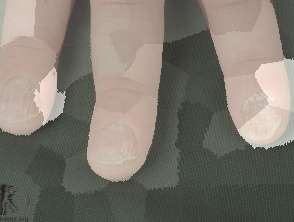Nail_psoriasis: (226, 76, 294, 153), (88, 112, 149, 172), (0, 68, 53, 129)
